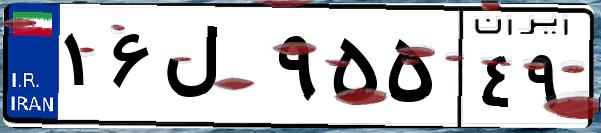1: (57, 26, 110, 100)
4: (475, 38, 525, 113)
5: (385, 28, 445, 110), (330, 28, 385, 110)
6: (110, 28, 158, 98)
9: (270, 28, 330, 110), (525, 38, 570, 115)
ل: (158, 20, 270, 120)
